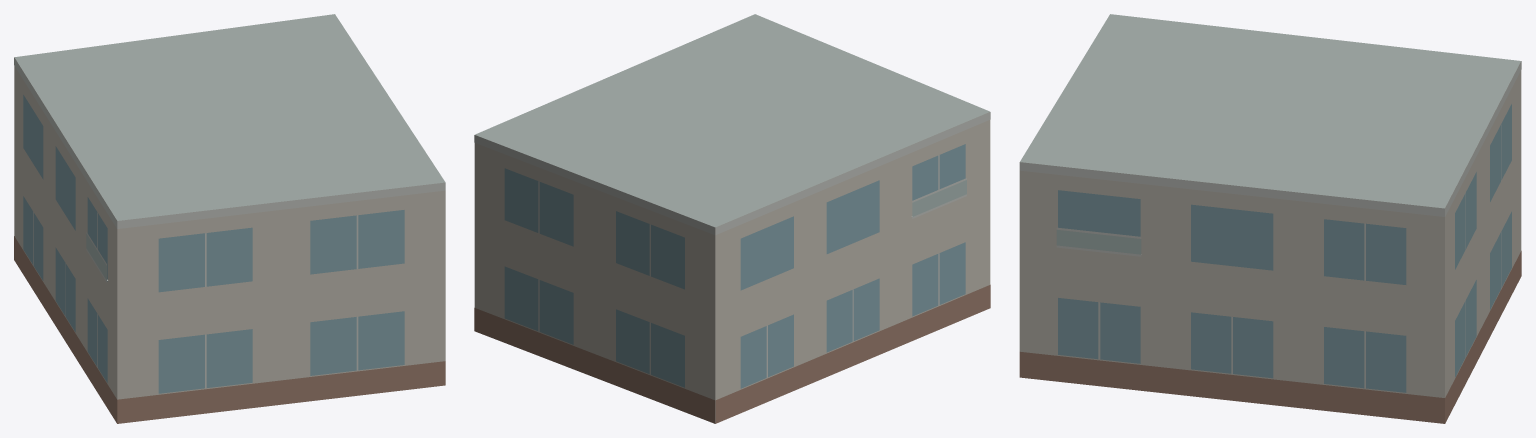
Rendered from survey-upis-32806845.glb.
3 renders of one model, left to right at view 1: azimuth 30°, elevation 25°; view 2: azimuth 150°, elevation 25°; view 3: azimuth 270°, elevation 25°, orthographic. The views are drawn at different scales.
Parts seen in each view (by area): view 1: survey-upis-32806845.tmp; view 2: survey-upis-32806845.tmp; view 3: survey-upis-32806845.tmp.
Part boxes in pixels (x1,y1,x2,y2): survey-upis-32806845.tmp: (14, 14, 445, 423); survey-upis-32806845.tmp: (474, 14, 990, 423); survey-upis-32806845.tmp: (1019, 14, 1521, 423).
Bounding box in the file's own units: 11.82 × 6.1 × 12.89.
